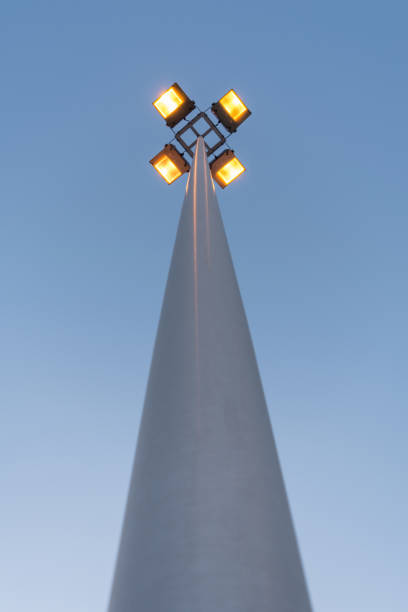light_pole: (104, 152, 312, 610)
